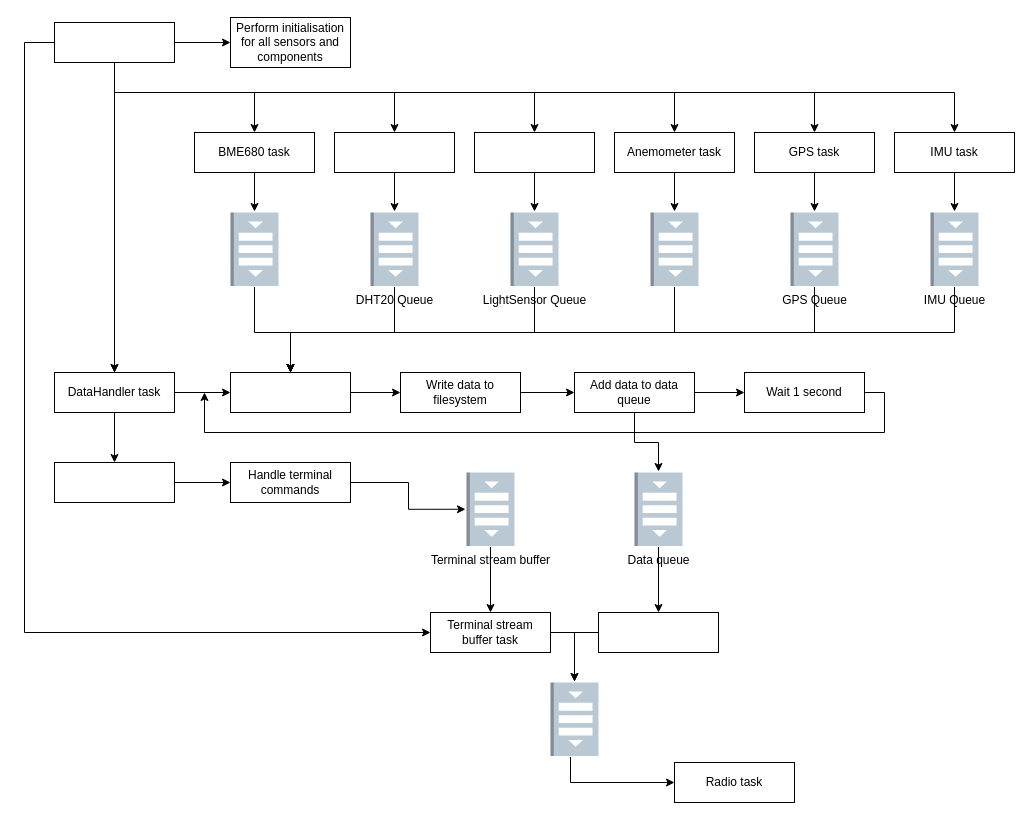
The diagram is 1032 pixels wide and 820 high, and some of its shapes have lost their labels. Each missing label, with the box of its shape:
Anemometer Queue: (650, 212, 698, 286)
BME680 Queue: (230, 212, 278, 286)
Data queue task: (598, 612, 718, 652)
DHT20 task: (334, 132, 454, 172)
Filesystem task: (54, 462, 174, 502)
Init task: (54, 22, 174, 62)
LightSensor task: (474, 132, 594, 172)
Radio packet queue: (550, 682, 598, 756)
Read from each queue until empty: (230, 372, 350, 412)
